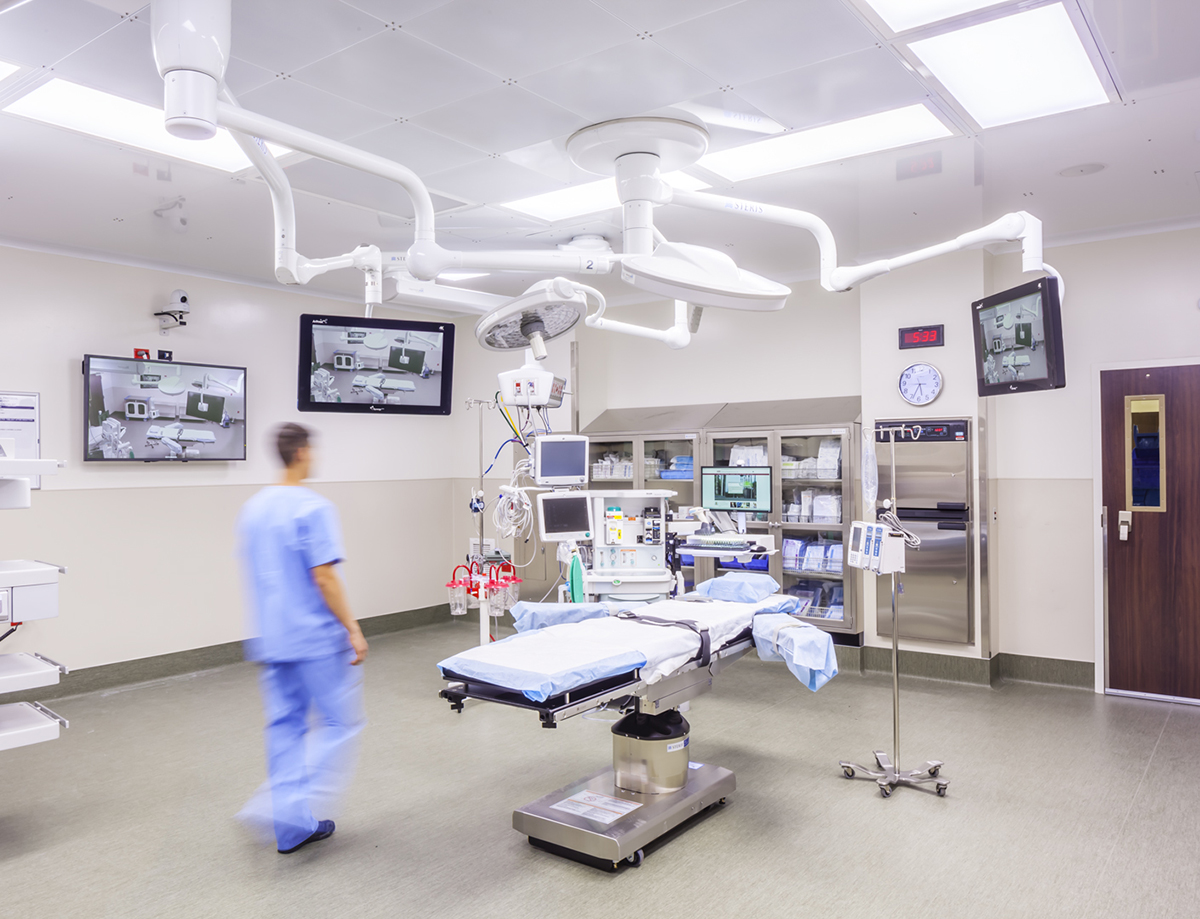TV: (82, 340, 247, 464), (299, 313, 455, 415), (972, 272, 1070, 400)
bedside_monitor: (532, 434, 591, 489), (536, 492, 595, 544)
cabinet: (512, 414, 863, 624)
door_handle: (1120, 507, 1138, 550)
infusion_pump: (846, 520, 915, 584)
iv_pole: (839, 423, 953, 807), (463, 398, 501, 555)
operating_bed: (438, 570, 843, 873)
staff: (236, 421, 369, 856)
surgical_light: (473, 278, 589, 352)
ventilator: (569, 485, 682, 607)
